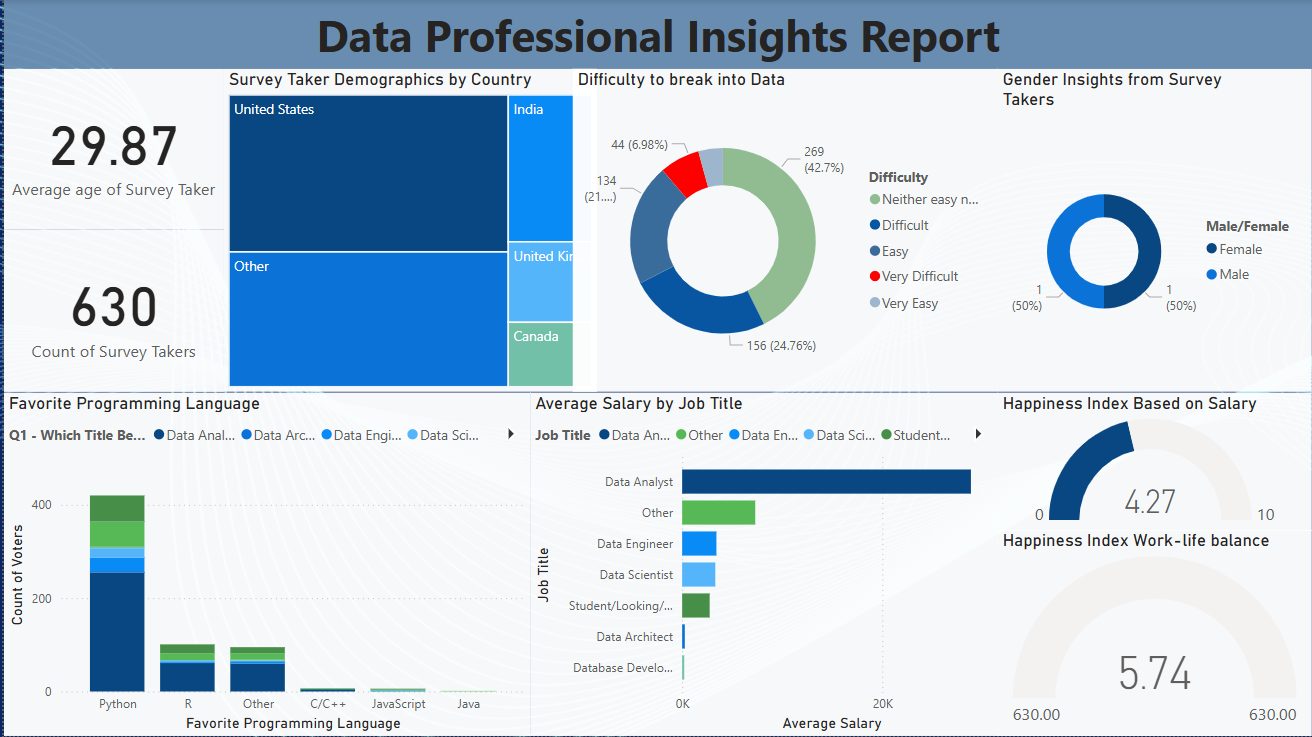

Layout of this report page (visuals, bound fields, positions):
{"tool":"powerbi","page":{"name":"Page 1","canvas":[1280,720],"ordinal":0},"visuals":[{"type":"textbox","box":[0,0,1280,67.5],"z":0},{"type":"card","fields":{"Values":["Count(Data Professional Survey.Unique ID)"]},"box":[0,225,215,158.8],"z":1000},{"type":"card","fields":{"Values":["Avg(Data Professional Survey.Q10 - Current Age)"]},"box":[0,67.5,215,157.5],"z":2000},{"type":"barChart","title":"Average Salary by Job Title","fields":{"Category":["Data Professional Survey.Q1 - Which Title Best Fits your Current Role?.1"],"Y":["Sum(Data Professional Survey.Average Salary)"],"Series":["Data Professional Survey.Q1 - Which Title Best Fits your Current Role?.1"]},"box":[515,383.8,457.5,336.2],"z":3000},{"type":"columnChart","title":" Favorite Programming Language","fields":{"Category":["Data Professional Survey.Q5 - Favorite Programming Language.1"],"Y":["CountNonNull(Data Professional Survey.Q5 - Favorite Programming Language.1)"],"Series":["Data Professional Survey.Q1 - Which Title Best Fits your Current Role?.1"]},"box":[0,383.8,515,336.2],"z":4000},{"type":"treemap","title":"Survey Taker Demographics by Country","fields":{"Group":["Data Professional Survey.Q11 - Which Country do you live in?.1"],"Values":["CountNonNull(Data Professional Survey.Q11 - Which Country do you live in?.1)"]},"box":[215,67.5,365,316.2],"z":5000},{"type":"gauge","title":"Happiness Index Work-life balance","fields":{"Y":["Avg(Data Professional Survey.Q6 - How Happy are you in your Current Position with the following? (Work/Life Balance))"],"MinValue":["CountNonNull(Data Professional Survey.Q7 - How difficult was it for you to break into Data?)"],"MaxValue":["CountNonNull(Data Professional Survey.Q7 - How difficult was it for you to break into Data?)"]},"box":[972.5,518.8,307.5,201.2],"z":6000},{"type":"gauge","title":"Happiness Index Based on Salary","fields":{"Y":["Avg(Data Professional Survey.Q6 - How Happy are you in your Current Position with the following? (Salary))"],"MinValue":["Min(Data Professional Survey.Q6 - How Happy are you in your Current Position with the following? (Salary))"],"MaxValue":["Max(Data Professional Survey.Q6 - How Happy are you in your Current Position with the following? (Salary))"]},"box":[972.5,383.8,307.5,135],"z":7000},{"type":"donutChart","title":"Difficulty to break into Data","fields":{"Category":["Data Professional Survey.Q7 - How difficult was it for you to break into Data?"],"Y":["CountNonNull(Data Professional Survey.Q1 - Which Title Best Fits your Current Role?.1)"]},"box":[556.2,67.5,416.2,316.2],"z":8000},{"type":"donutChart","title":"Gender Insights from Survey Takers","fields":{"Category":["Data Professional Survey.Q9 - Male/Female?"],"Y":["Count(Data Professional Survey.Q9 - Male/Female?)"]},"box":[972.5,67.5,307.5,316.2],"z":8001}]}

Visuals, with their boxes in screenshot pixels (x1, y1, x2, y2), scaled from the page's 1280x720 canvas onto the 1312x737 screenshot:
textbox: <box>0,0,1311,69</box>
card - Count(Data Professional Survey.Unique ID): <box>0,230,220,393</box>
card - Avg(Data Professional Survey.Q10 - Current Age): <box>0,69,220,230</box>
"Average Salary by Job Title" barChart: <box>528,393,997,736</box>
" Favorite Programming Language" columnChart: <box>0,393,528,736</box>
"Survey Taker Demographics by Country" treemap: <box>220,69,594,393</box>
"Happiness Index Work-life balance" gauge: <box>997,531,1311,736</box>
"Happiness Index Based on Salary" gauge: <box>997,393,1311,531</box>
"Difficulty to break into Data" donutChart: <box>570,69,997,393</box>
"Gender Insights from Survey Takers" donutChart: <box>997,69,1311,393</box>
